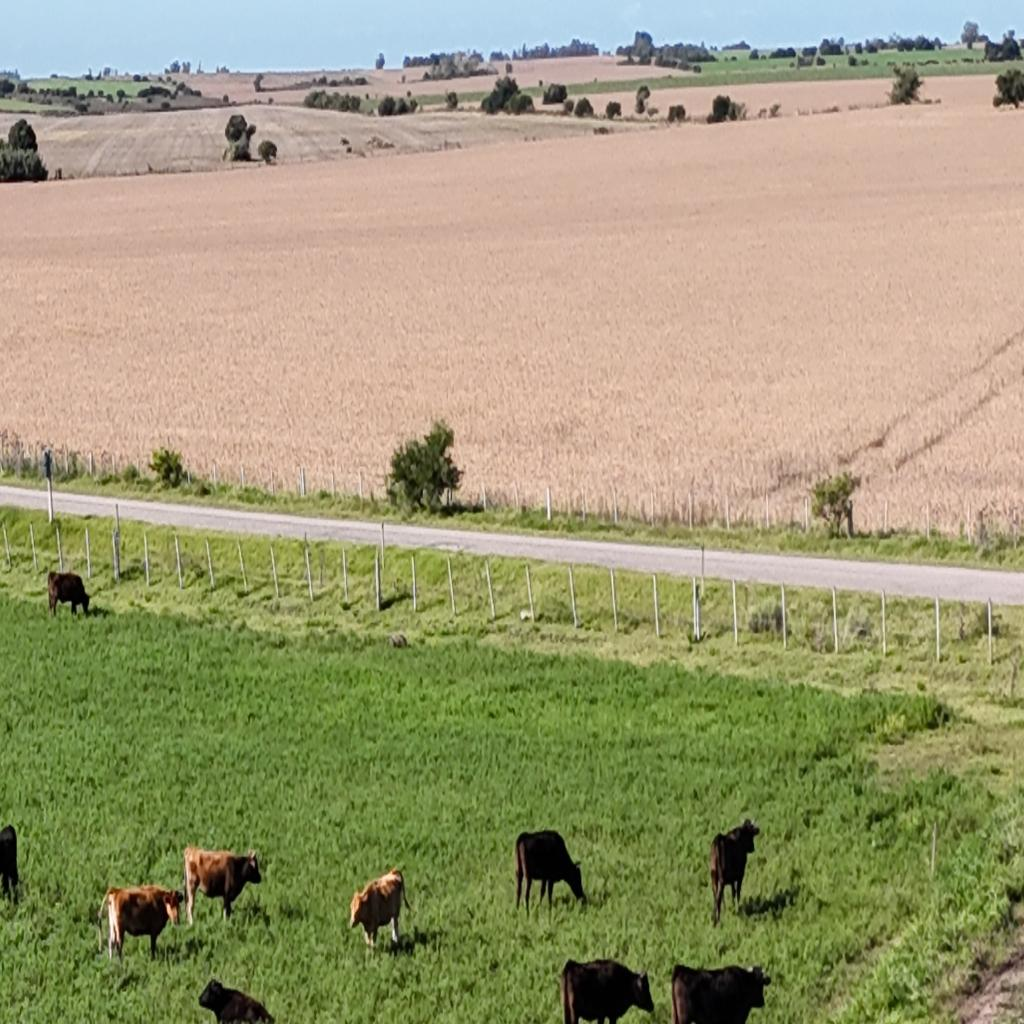cow: (100, 884, 185, 967), (671, 961, 771, 1024), (560, 958, 654, 1024), (182, 846, 260, 925), (515, 829, 586, 914), (707, 817, 760, 925), (348, 870, 412, 952), (198, 976, 274, 1024), (48, 571, 92, 619), (0, 825, 19, 902)
